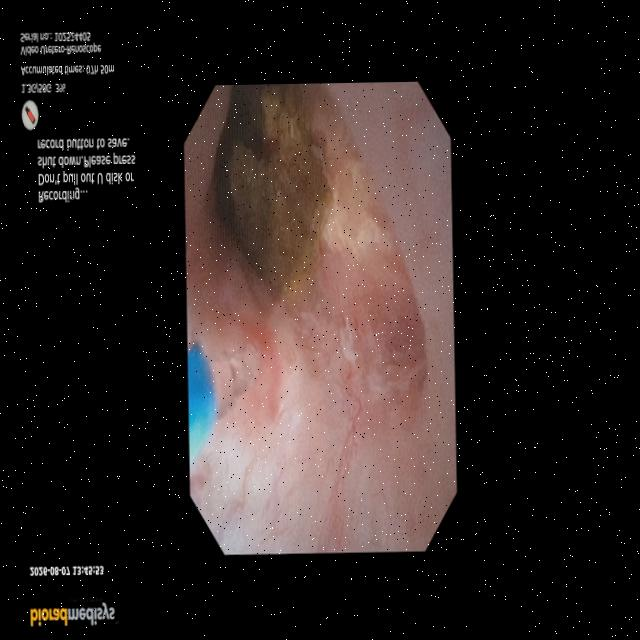laser-fibre: (208, 344, 259, 418)
stone-new: (227, 86, 330, 296)
